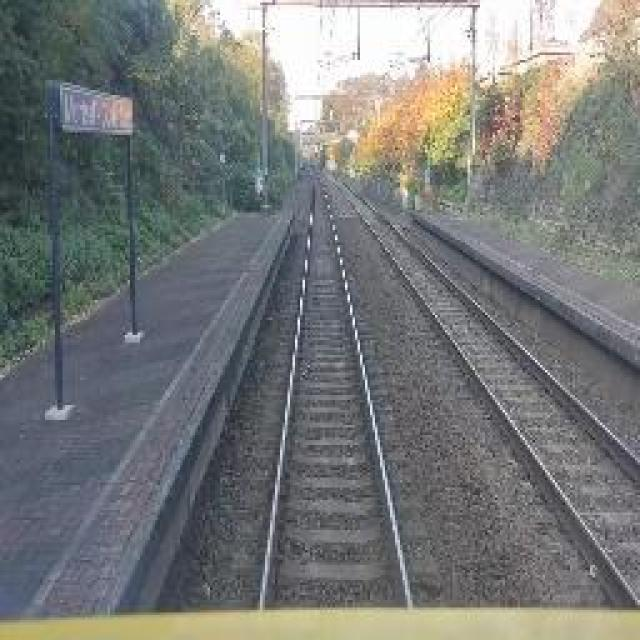rail: (225, 164, 441, 606)
